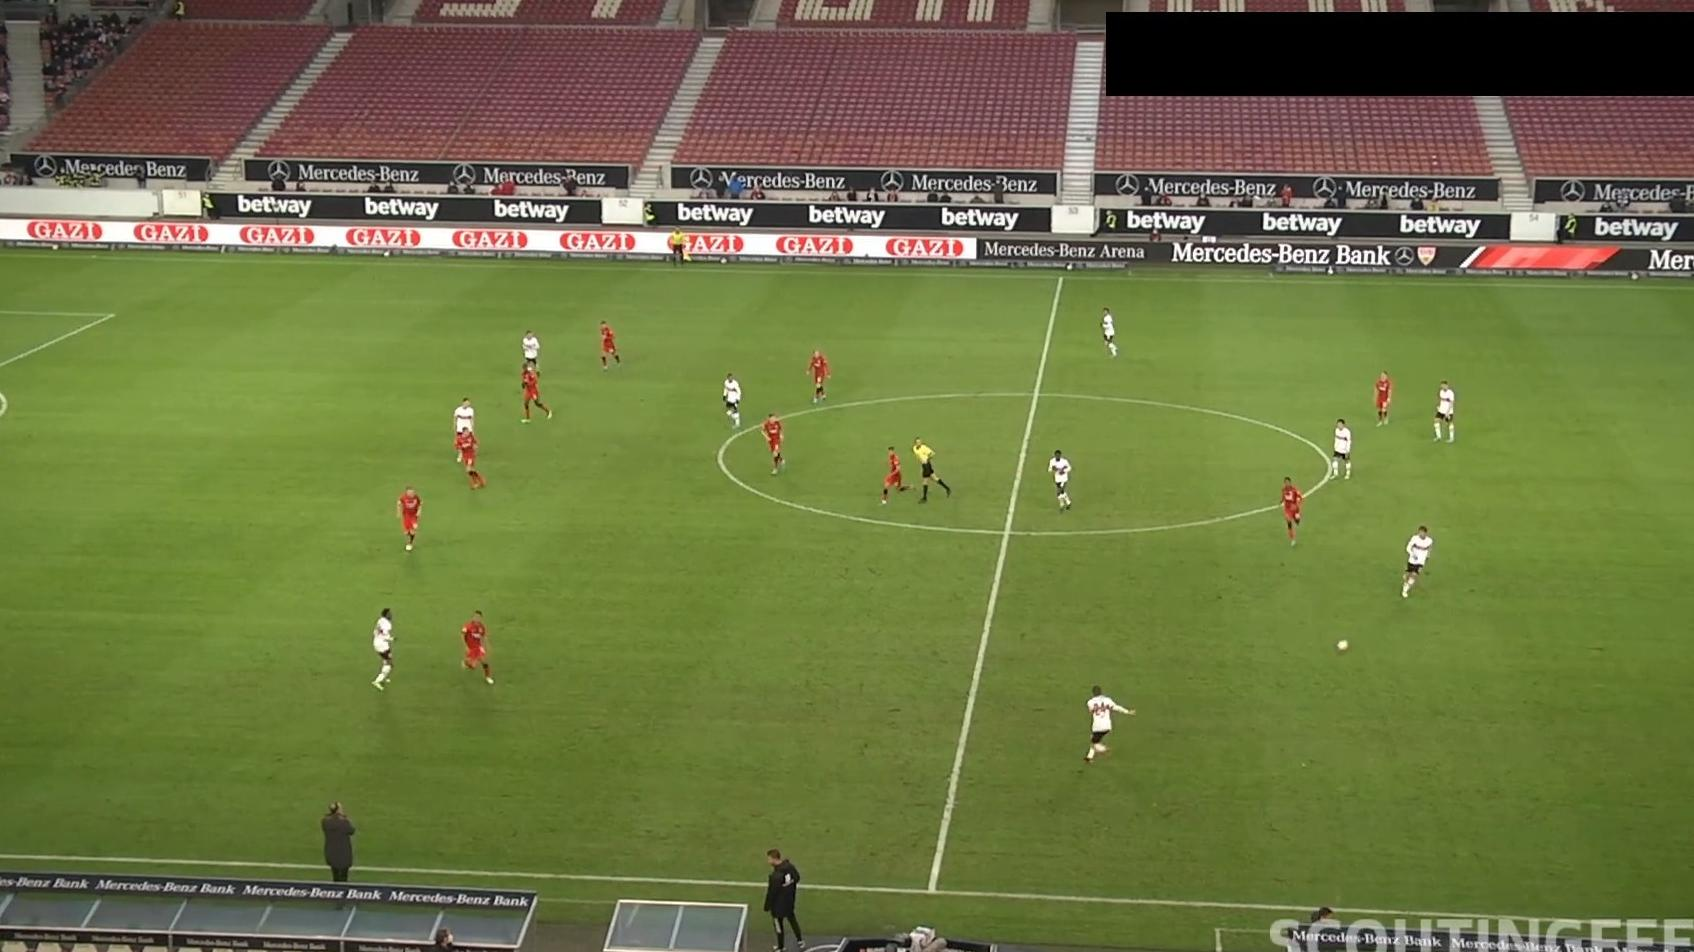ball: (1336, 638, 1351, 654)
